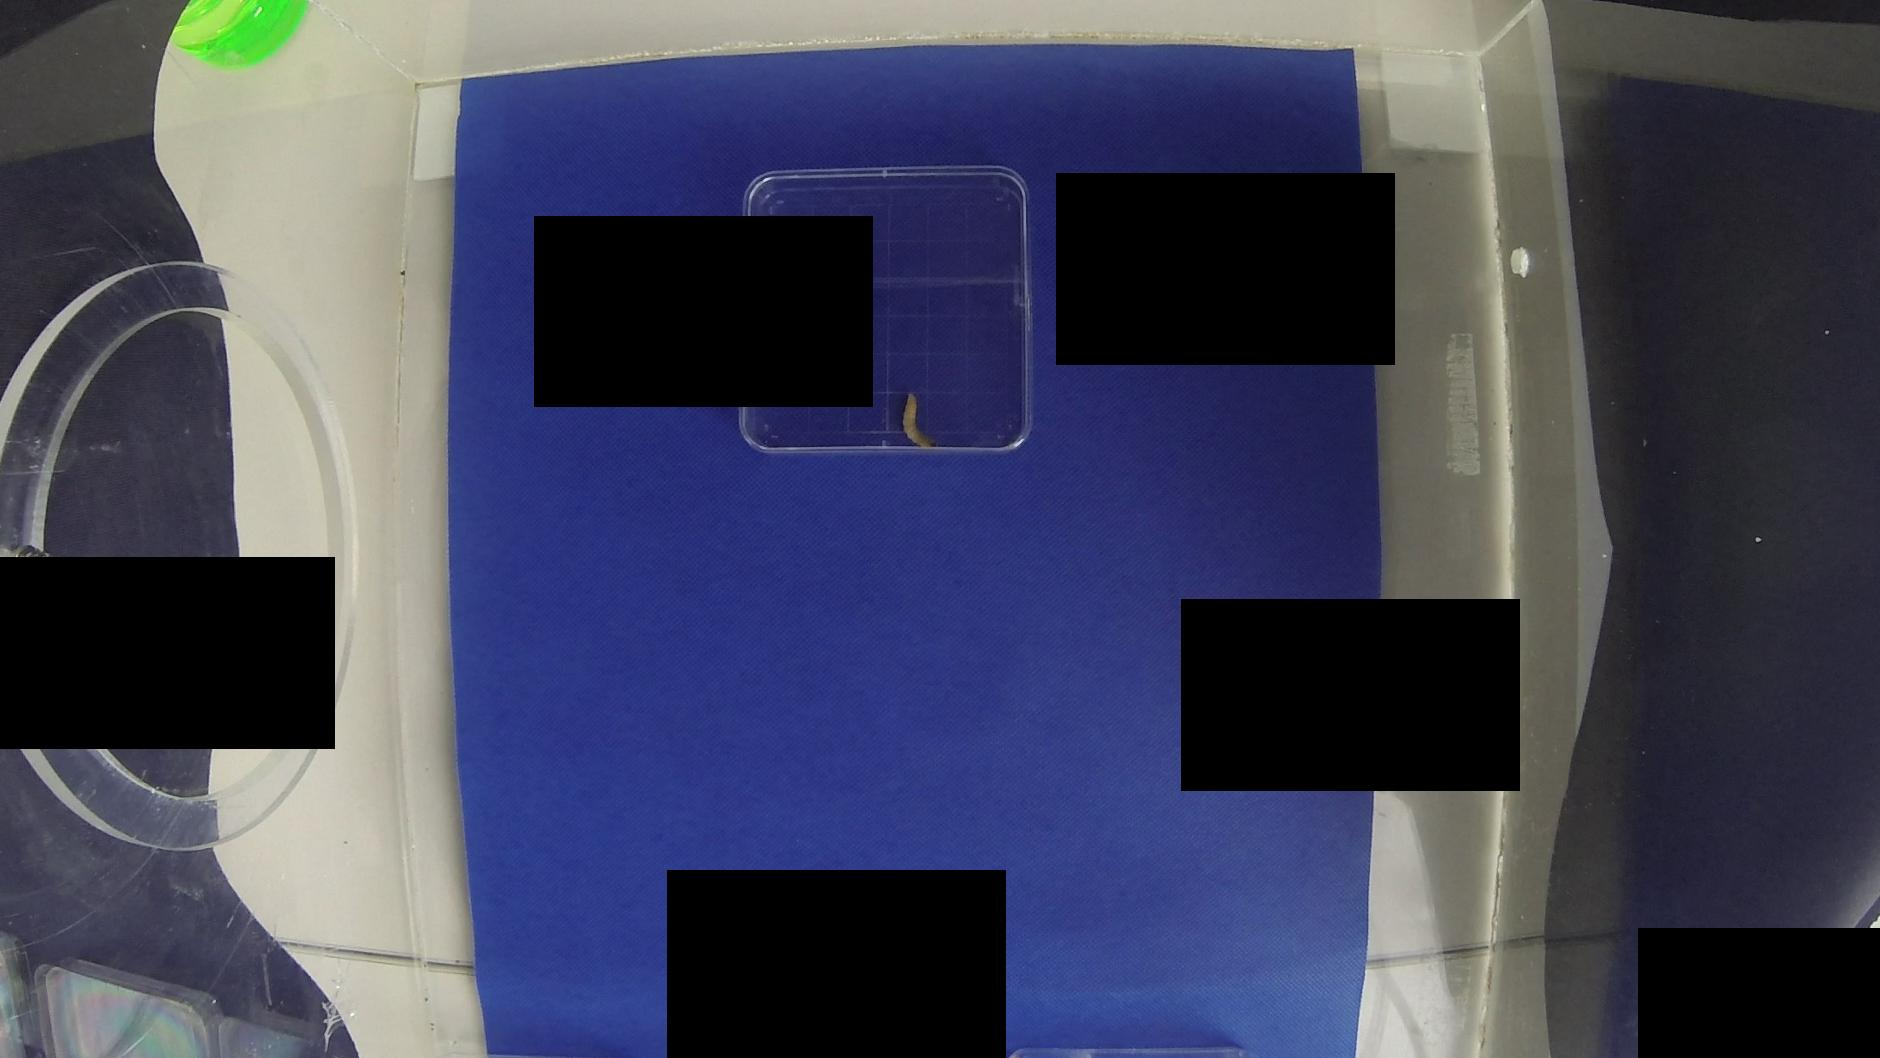larva: (903, 388, 936, 450)
